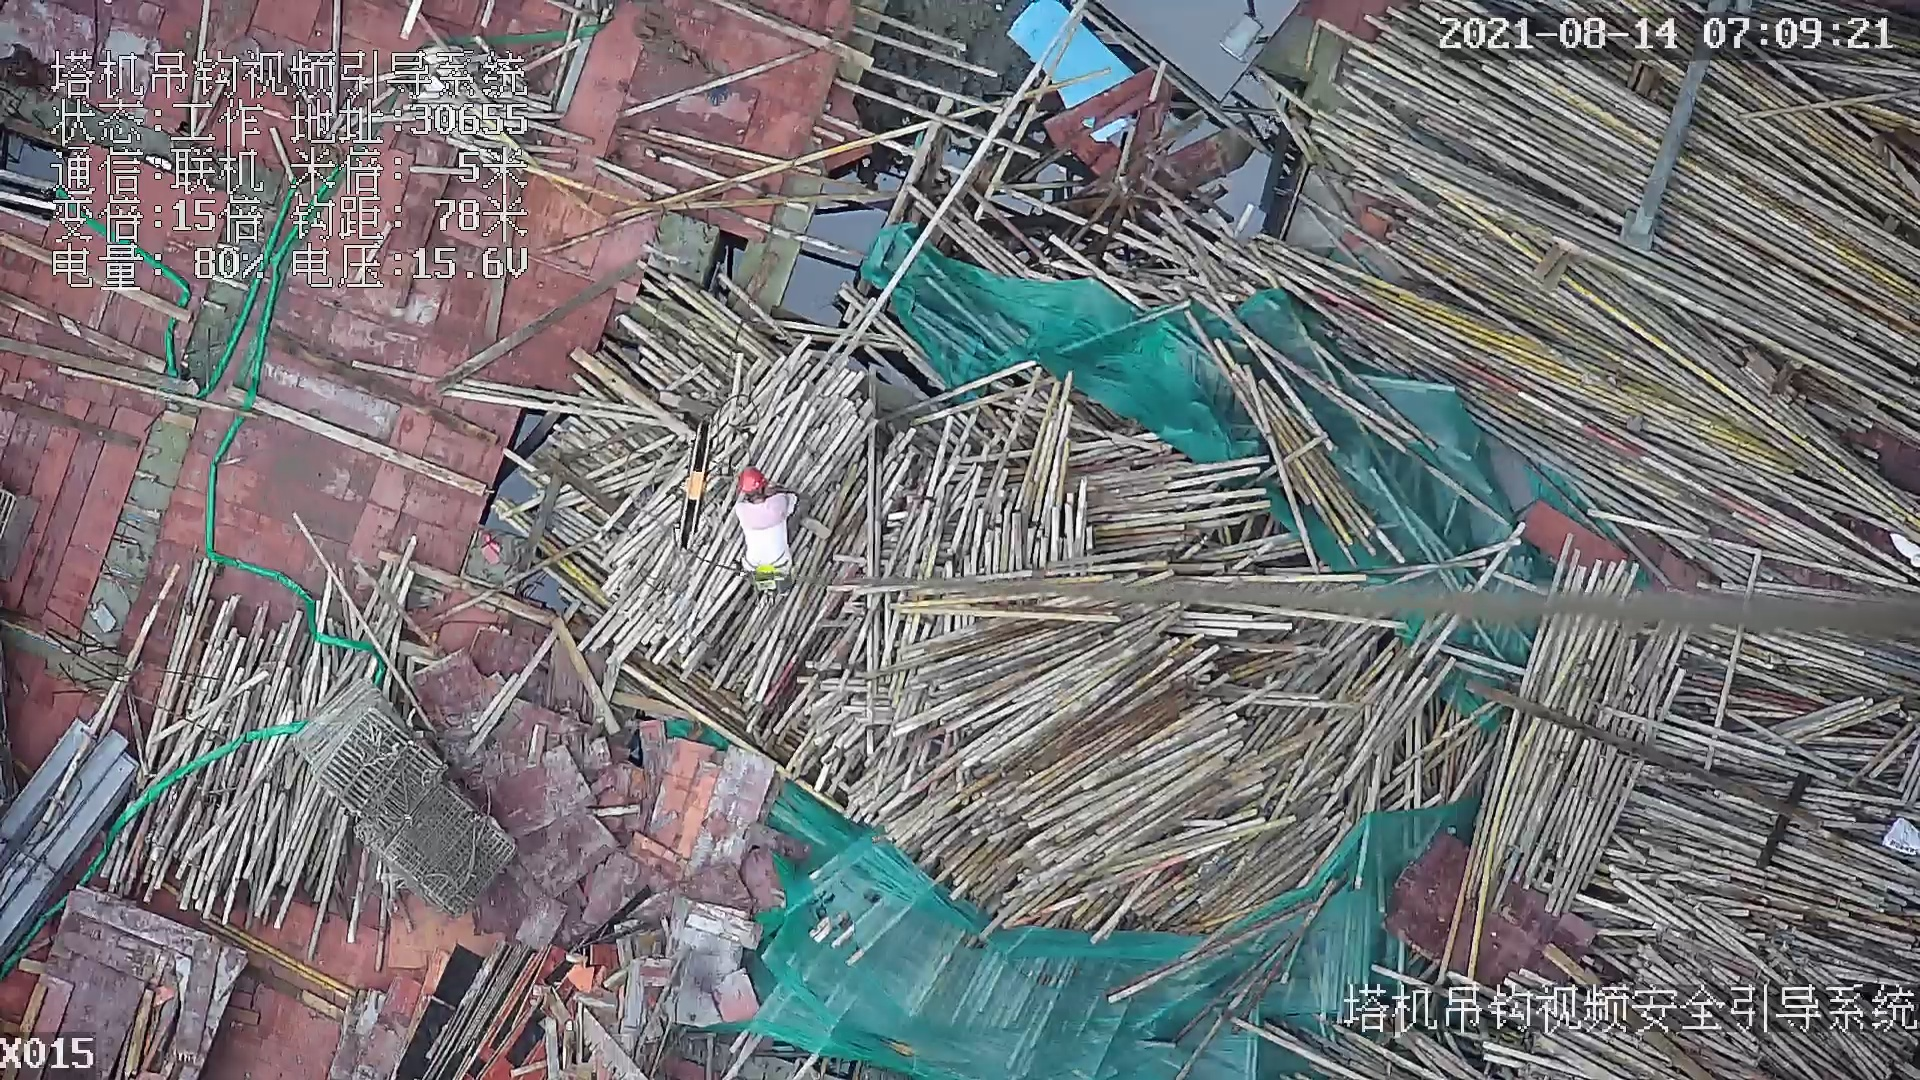helmet: (736, 465, 769, 498)
hook: (669, 408, 717, 554)
person: (729, 453, 806, 591)
